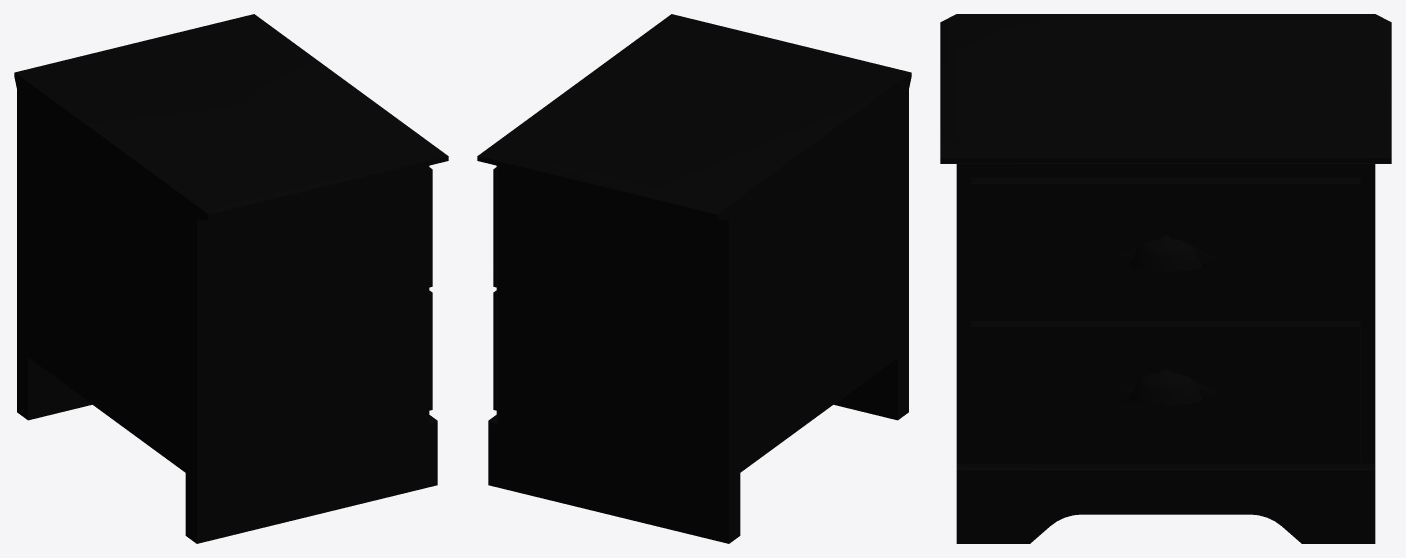
File: desk1.fbx
3 views of the same model, side by side, from view 1: azimuth 30°, elevation 25°; view 2: azimuth 150°, elevation 25°; view 3: azimuth 270°, elevation 25° (orthographic). The views are drawn at different scales.
Visible parts, largest first — view 1: node_id7, node_id5, node_id9; view 2: node_id7, node_id5, node_id9; view 3: node_id5, node_id7, node_id9, node_id11.
Boxes of the visible parts, <box> form: node_id7: <box>14,14,448,543</box>; node_id5: <box>429,167,432,410</box>; node_id9: <box>429,415,437,486</box>; node_id7: <box>477,14,911,543</box>; node_id5: <box>493,167,496,410</box>; node_id9: <box>488,415,496,486</box>; node_id5: <box>971,177,1360,462</box>; node_id7: <box>940,14,1391,463</box>; node_id9: <box>956,464,1375,543</box>; node_id11: <box>1114,235,1217,405</box>.
Bounding box in the file's own units: 0.4088 × 0.512 × 0.5327.
Materials: 4 (4 with a texture image).
